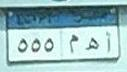5: (43, 36, 55, 55), (17, 37, 28, 54), (30, 37, 42, 52)
alif: (105, 31, 112, 51)
haa: (85, 34, 100, 51)
meem: (67, 33, 79, 53)
